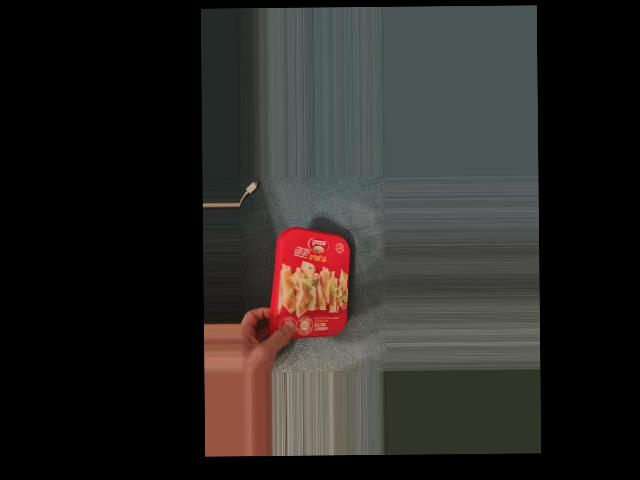cheese: (264, 229, 352, 340)
